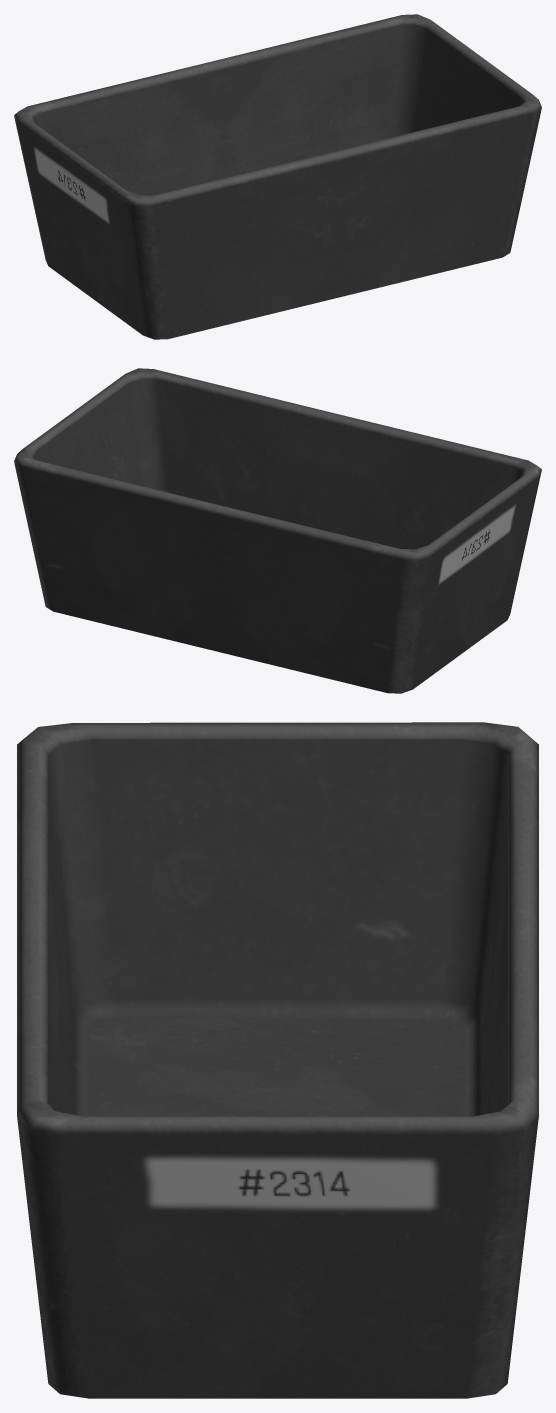
File: SM_Tray_4.fbx
The picture shows the model from 3 angles, top to bottom: view 1: azimuth 30°, elevation 25°; view 2: azimuth 150°, elevation 25°; view 3: azimuth 270°, elevation 25°; orthographic projection. The views are drawn at different scales.
Parts seen in each view (by area): view 1: SM_Tray_4_LOD0; view 2: SM_Tray_4_LOD0; view 3: SM_Tray_4_LOD0.
Boxes of the visible parts, x1,y1,x2,y2 form: SM_Tray_4_LOD0: [14, 14, 541, 339]; SM_Tray_4_LOD0: [14, 368, 541, 693]; SM_Tray_4_LOD0: [17, 722, 538, 1398].
Size of the model in its own units: 43.68 by 23.83 by 15.05.
1 material, 1 textured.
